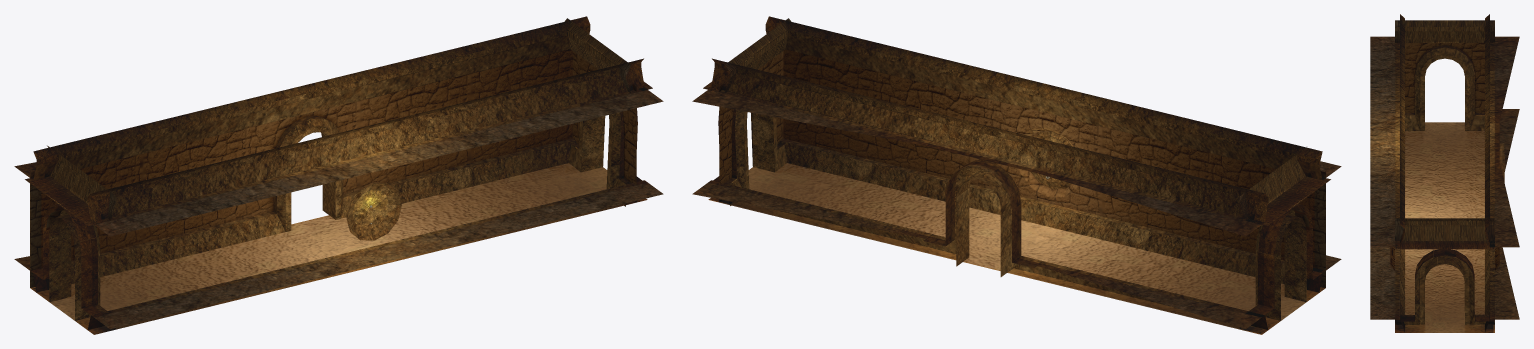
Rendered from Corridor.glb.
3 views of the same model, side by side, from view 1: azimuth 30°, elevation 25°; view 2: azimuth 150°, elevation 25°; view 3: azimuth 270°, elevation 25° (orthographic). The views are drawn at different scales.
Parts seen in each view (by area): view 1: object1.084, col.004, object1.083, object1.089, object1.091, object2.024, object1.079, object1.081, object1.082, object1.085, object1.086, object1.080 (+7 smaller); view 2: col.004, object1.084, object1.089, object1.083, object1.078, object1.091, object1.077, object2.023, object2.024, object1.076, object1.085, object1.086 (+5 smaller); view 3: col.004, object1.084, object1.088, object1.089, object1.083, object2.024, object2.025, object1.087, object1.091, door.013, object1.085, object1.086 (+1 smaller).
Part boxes in pixels (x1=…): object1.084: x1=87, y1=58, x2=663, y2=236; col.004: x1=30, y1=163, x2=647, y2=334; object1.083: x1=88, y1=180, x2=663, y2=329; object1.089: x1=14, y1=70, x2=368, y2=180; object1.091: x1=365, y1=16, x2=590, y2=98; object2.024: x1=30, y1=204, x2=115, y2=328; object1.079: x1=141, y1=127, x2=251, y2=243; object1.081: x1=362, y1=73, x2=472, y2=188; object1.082: x1=473, y1=49, x2=572, y2=162; object1.085: x1=388, y1=138, x2=576, y2=203; object1.086: x1=14, y1=217, x2=257, y2=292; object1.080: x1=30, y1=154, x2=140, y2=287; col.004: x1=708, y1=163, x2=1325, y2=334; object1.084: x1=765, y1=16, x2=1341, y2=180; object1.089: x1=926, y1=112, x2=1268, y2=236; object1.083: x1=779, y1=138, x2=1341, y2=292; object1.078: x1=783, y1=49, x2=993, y2=189; object1.091: x1=692, y1=58, x2=935, y2=145; object1.077: x1=1104, y1=127, x2=1325, y2=287; object2.023: x1=924, y1=160, x2=1046, y2=276; object2.024: x1=1240, y1=204, x2=1324, y2=328; object1.076: x1=993, y1=100, x2=1104, y2=216; object1.085: x1=692, y1=180, x2=935, y2=248; object1.086: x1=1037, y1=261, x2=1267, y2=329; col.004: x1=1395, y1=122, x2=1494, y2=332; object1.084: x1=1370, y1=14, x2=1404, y2=247; object1.088: x1=1395, y1=218, x2=1494, y2=249; object1.089: x1=1485, y1=14, x2=1519, y2=162; object1.083: x1=1370, y1=247, x2=1404, y2=331; object2.024: x1=1405, y1=45, x2=1484, y2=130; object2.025: x1=1395, y1=249, x2=1494, y2=324; object1.087: x1=1395, y1=20, x2=1494, y2=42; object1.091: x1=1485, y1=140, x2=1519, y2=247; door.013: x1=1405, y1=43, x2=1484, y2=112; object1.085: x1=1485, y1=247, x2=1519, y2=331; object1.086: x1=1499, y1=109, x2=1519, y2=171.
Bounding box in the file's own units: 5.1 × 1.22 × 1.5.
7 materials, 6 textured.
